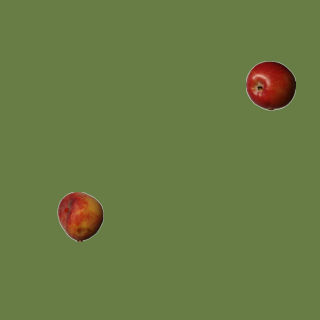Apple Braeburn: (245, 60, 295, 110)
Peach: (55, 191, 105, 241)
